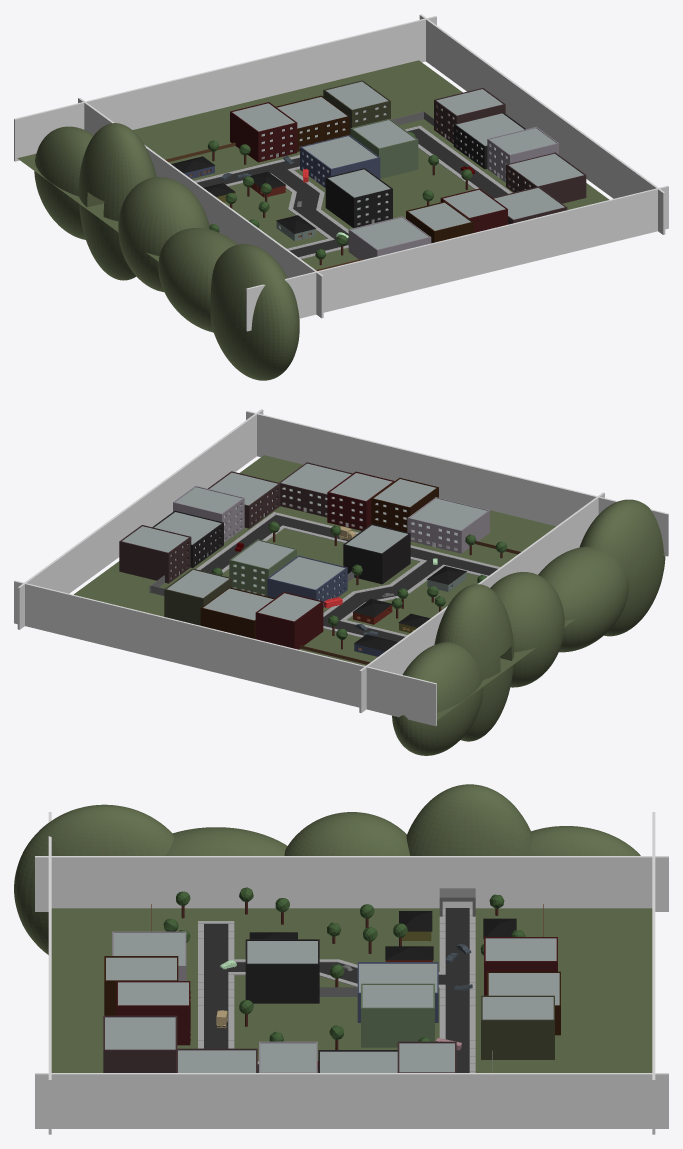
The model's file is ProjectMonsterConnceptMapTWO5.fbx.
3 renders of one model, top to bottom at view 1: azimuth 30°, elevation 25°; view 2: azimuth 150°, elevation 25°; view 3: azimuth 270°, elevation 25°, orthographic. The views are drawn at different scales.
Parts seen in each view (by area): view 1: Barrier, Hills, Baseplate, Road, Door Large.007, Door Large.003, Door Large.008, Door Large.011, Ceiling.044, Ceiling.050, Ceiling.053, Door Large.014 (+19 smaller); view 2: Barrier, Hills, Baseplate, Road, Door Large.001, Door Large.003, Door Large.007, Door Large.013, Door Large.005, Door Large.002, Door Large.014, Door Large.008 (+20 smaller); view 3: Barrier, Baseplate, Hills, Road, Door Large.007, Door Large.002, Door Large.008, Ceiling.047, Door Large.012, Ceiling.044, Ceiling.041, Ceiling.015 (+18 smaller).
Boxes of the visible parts, left/top/right/bottom form: Barrier: left=14, top=14, right=668, bottom=331; Hills: left=34, top=123, right=299, bottom=380; Baseplate: left=17, top=60, right=609, bottom=325; Road: left=194, top=125, right=511, bottom=259; Door Large.007: left=325, top=168, right=392, bottom=228; Door Large.003: left=230, top=102, right=297, bottom=162; Door Large.008: left=350, top=118, right=418, bottom=178; Door Large.011: left=506, top=152, right=586, bottom=203; Ceiling.044: left=509, top=153, right=583, bottom=186; Ceiling.050: left=351, top=217, right=428, bottom=249; Ceiling.053: left=302, top=136, right=377, bottom=168; Door Large.014: left=300, top=135, right=380, bottom=187; Barrier: left=14, top=409, right=668, bottom=726; Hills: left=392, top=499, right=665, bottom=755; Baseplate: left=74, top=455, right=665, bottom=720; Road: left=196, top=512, right=500, bottom=641; Door Large.001: left=119, top=525, right=191, bottom=583; Door Large.003: left=255, top=592, right=323, bottom=649; Door Large.007: left=343, top=524, right=410, bottom=584; Door Large.013: left=407, top=497, right=489, bottom=553; Door Large.005: left=327, top=471, right=394, bottom=530; Door Large.002: left=164, top=568, right=231, bottom=625; Door Large.014: left=267, top=555, right=347, bottom=607; Door Large.008: left=229, top=539, right=296, bottom=596; Barrier: left=35, top=812, right=668, bottom=1134; Baseplate: left=51, top=908, right=652, bottom=1072; Hills: left=14, top=784, right=640, bottom=954; Road: left=198, top=907, right=475, bottom=1072; Door Large.007: left=245, top=939, right=319, bottom=1003; Door Large.002: left=481, top=995, right=554, bottom=1059; Door Large.008: left=361, top=983, right=434, bottom=1047; Ceiling.047: left=105, top=1017, right=175, bottom=1049; Door Large.012: left=103, top=1015, right=177, bottom=1072; Ceiling.044: left=178, top=1050, right=255, bottom=1072; Ceiling.041: left=320, top=1051, right=397, bottom=1072; Ceiling.015: left=260, top=1043, right=316, bottom=1072.
Size of the model in its own units: 21396 by 7200 by 21700.
